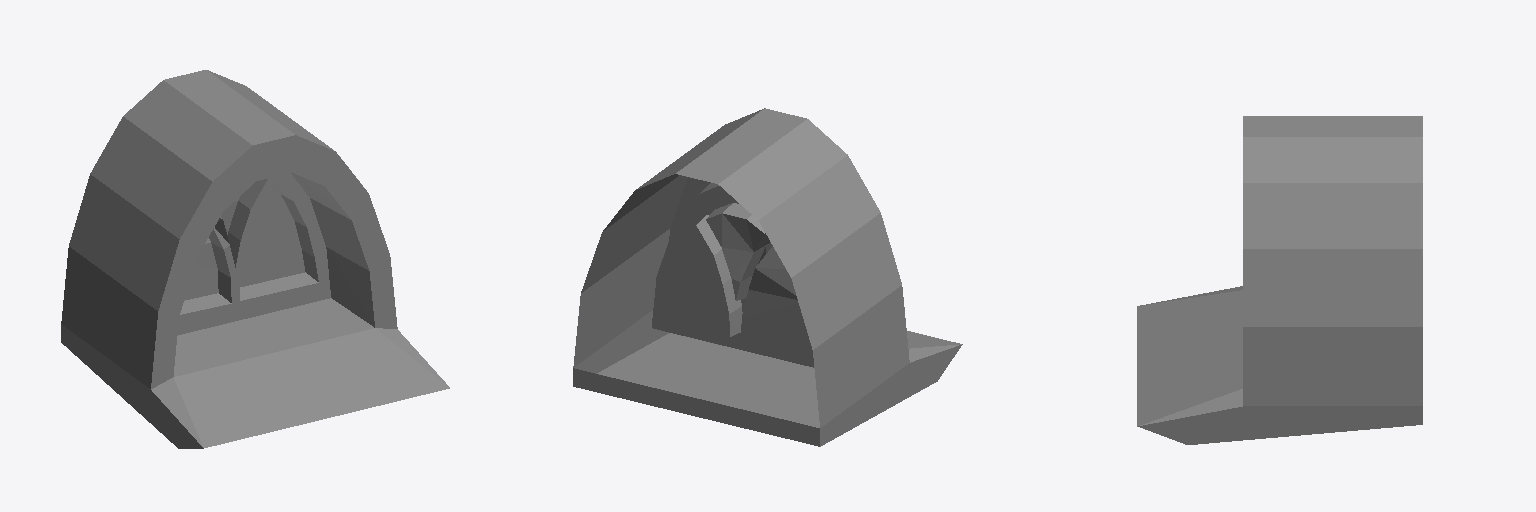
The model's file is window_small_round.obj.
3 views of the same model, side by side, from view 1: azimuth 30°, elevation 25°; view 2: azimuth 150°, elevation 25°; view 3: azimuth 270°, elevation 25° (orthographic).
Parts seen in each view (by area): view 1: Cylinder004; view 2: Cylinder004; view 3: Cylinder004.
Boxes of the visible parts, box(x1,y1,x2,y2) form: Cylinder004: box(61, 70, 449, 448); Cylinder004: box(573, 108, 962, 446); Cylinder004: box(1137, 116, 1422, 444).
Size of the model in its own units: 12.8 by 12.79 by 12.8.